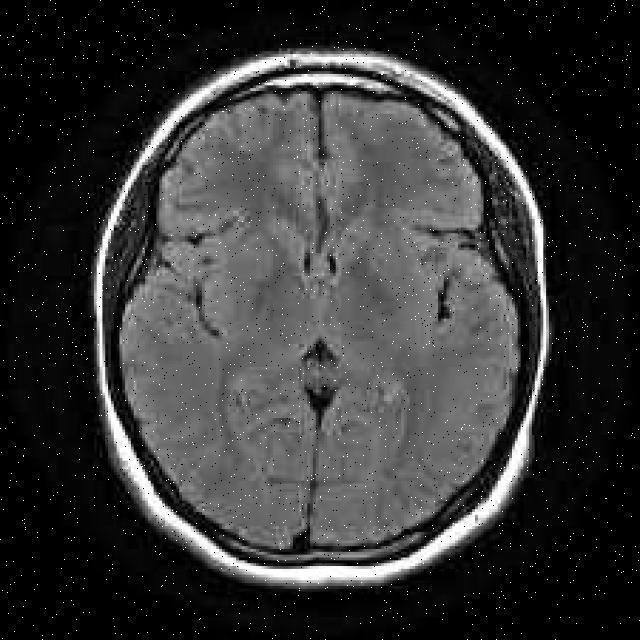No_Tumor: (96, 51, 549, 584)
